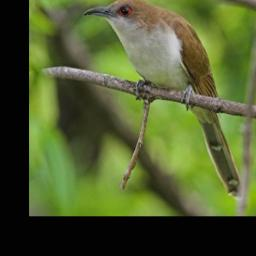Cuckoo: (82, 0, 241, 198)
